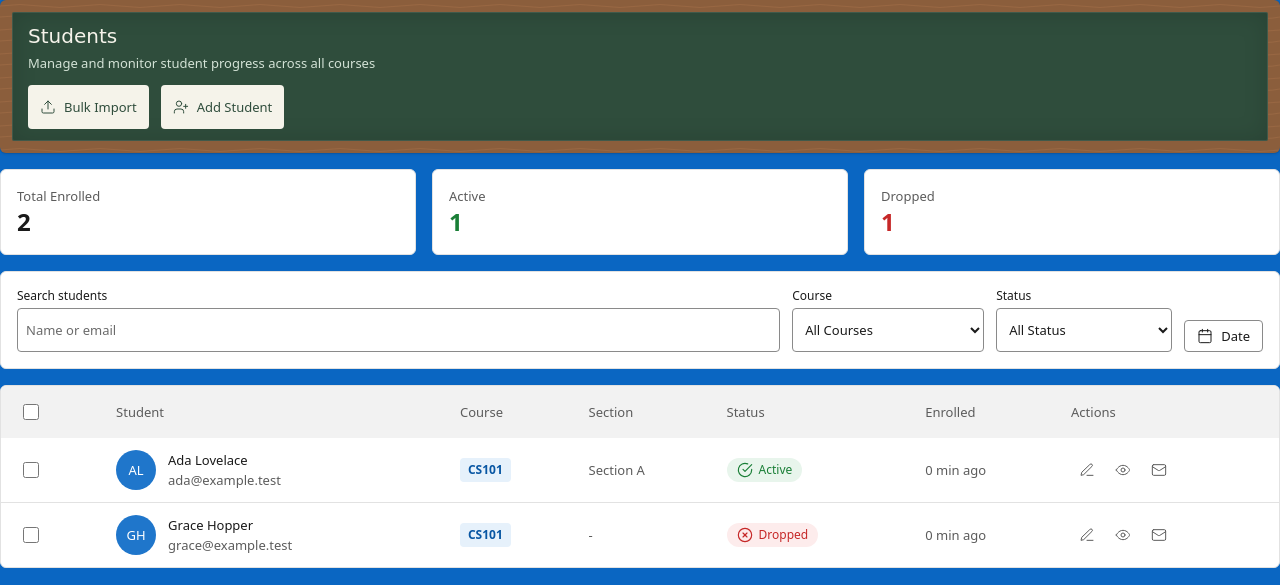
LecturerStudentsPage › search narrows by name, and a miss shows one note
Type "grace" into the search field labelled "Search students".
click(399, 330); type("grace")  # box [17,308,780,352]
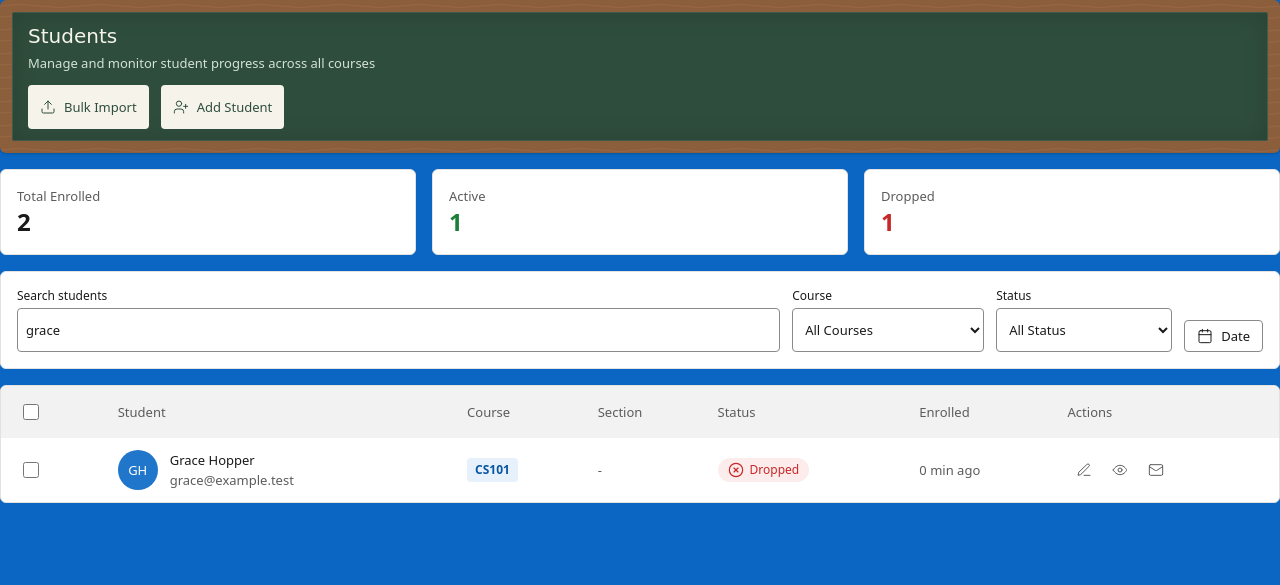
Expected: the text "Grace Hopper" is shown, [170,451,255,469]
Expected: the text "Ada Lovelace" is gone
Replace the text in the search field labelled "Search students" with "zzz" at (399, 330), box [17,308,780,352]
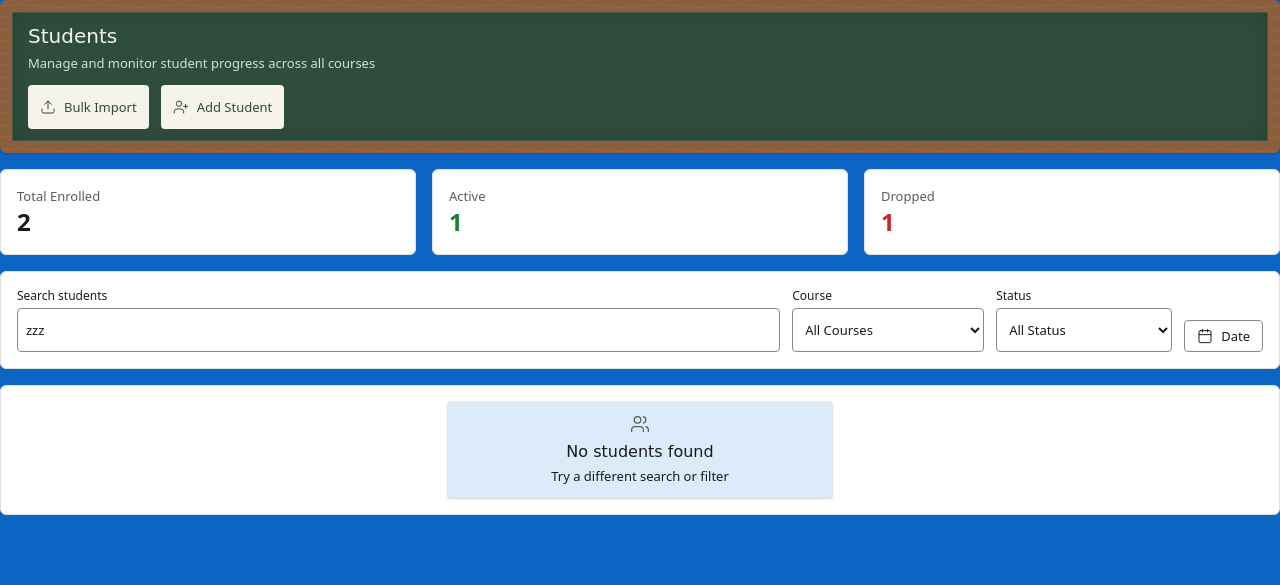
Expected: the heading "No students found" is shown, [566,442,714,462]
Expected: the table "Students table" is gone
